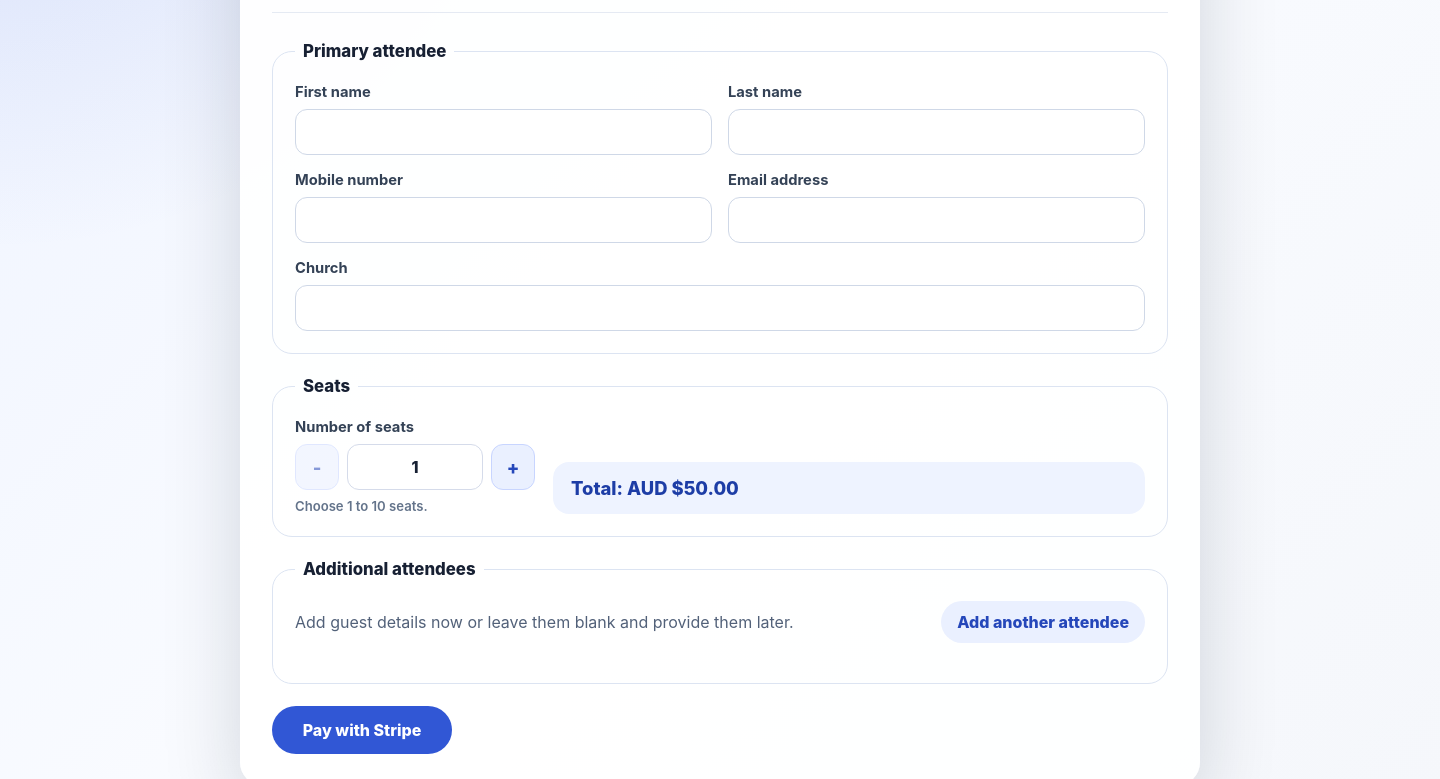
Scenario: App › shows validation feedback before checkout
(page scrolled)
Click the button "Pay with Stripe". click: (362, 730)
box: [272,706,452,754]
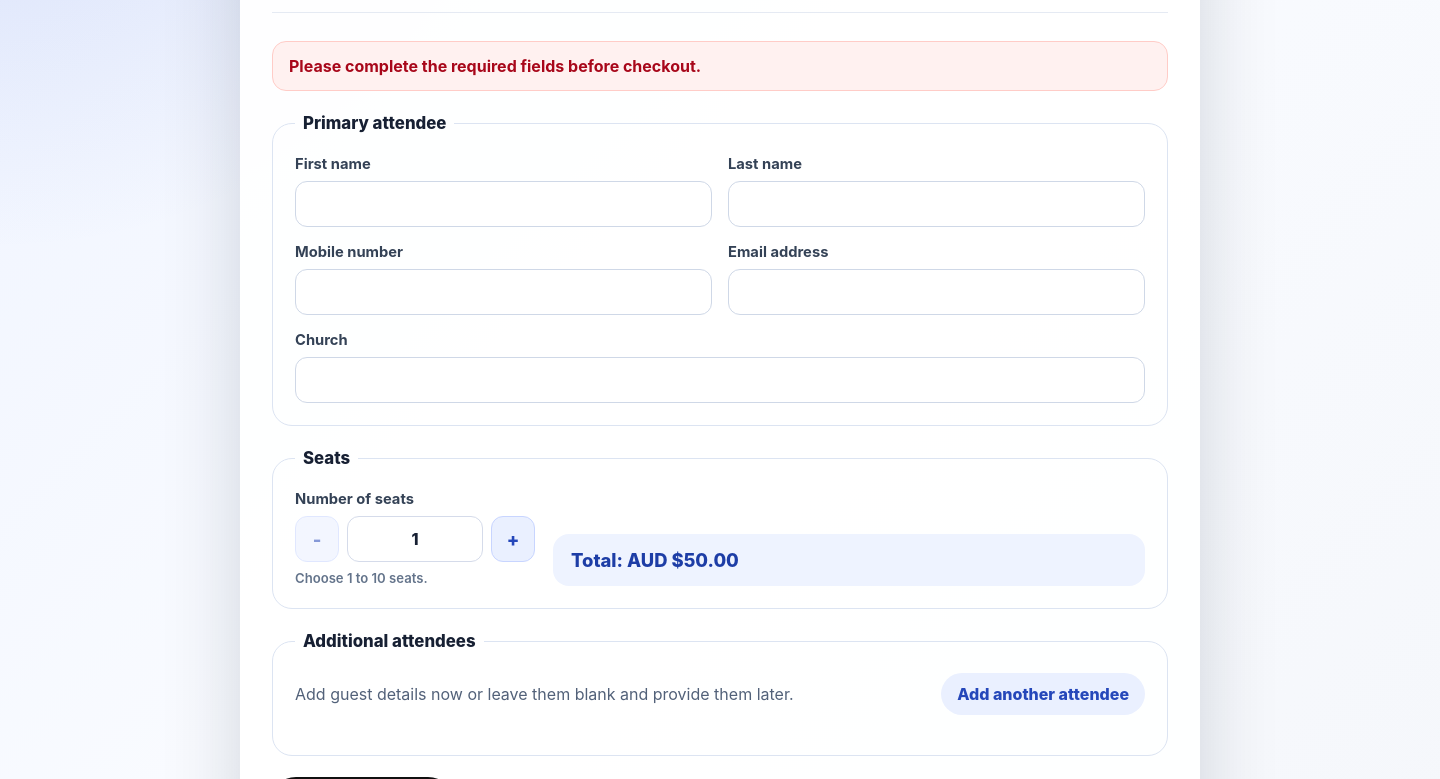
Result: the message shows "complete the required fields" at [289,56,701,76]
